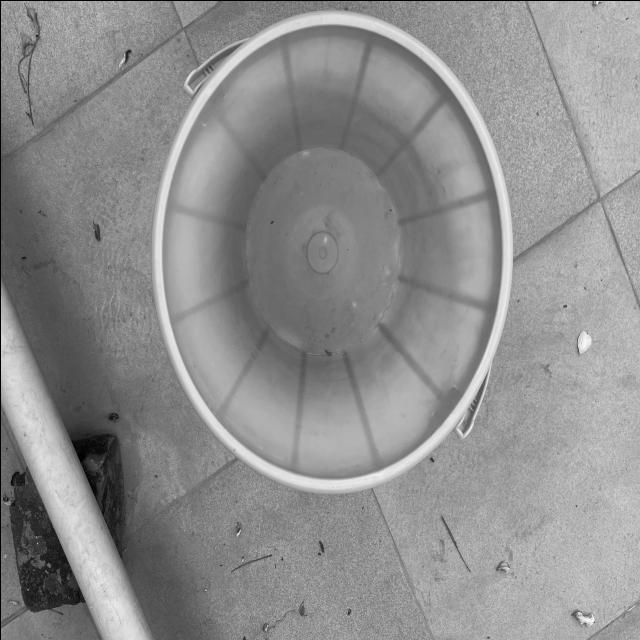Breeding Place: (152, 13, 503, 496)
